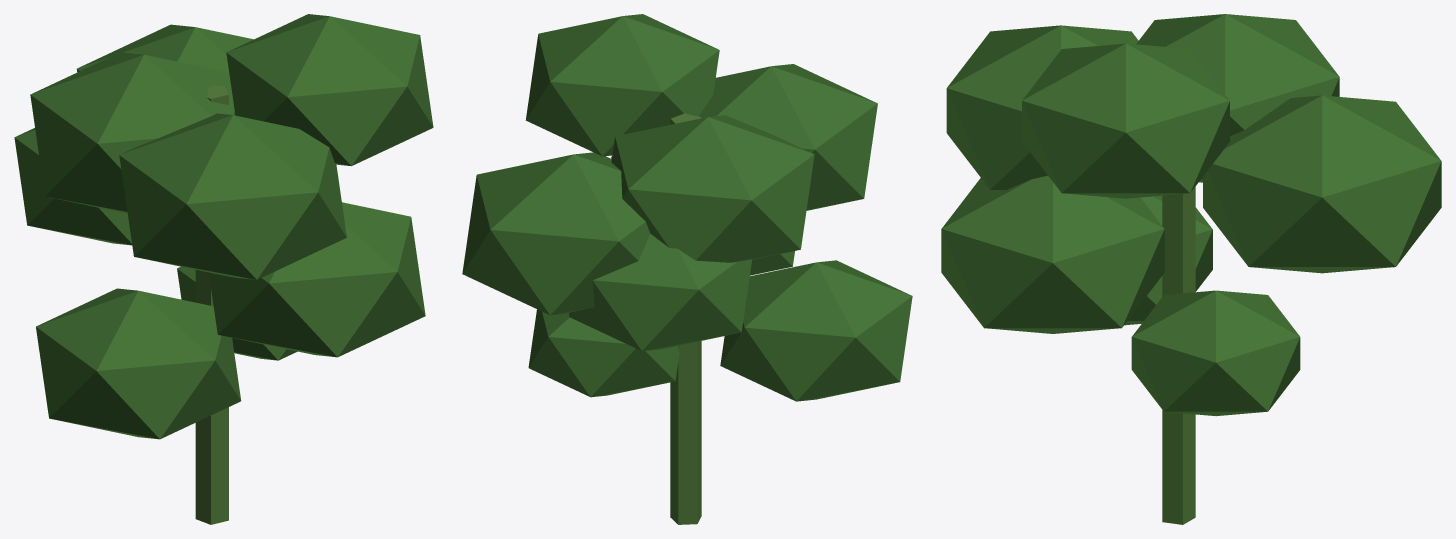
The model's file is ekin_biber_y.glb.
3 views of the same model, side by side, from view 1: azimuth 30°, elevation 25°; view 2: azimuth 150°, elevation 25°; view 3: azimuth 270°, elevation 25° (orthographic). The views are drawn at different scales.
Parts seen in each view (by area): view 1: Cali; view 2: Cali; view 3: Cali.
Part boxes in pixels (left/top/right/bottom): Cali: left=14, top=14, right=433, bottom=524; Cali: left=462, top=14, right=912, bottom=524; Cali: left=941, top=14, right=1441, bottom=524.
Bounding box in the file's own units: 0.1489 × 0.1866 × 0.1622.
